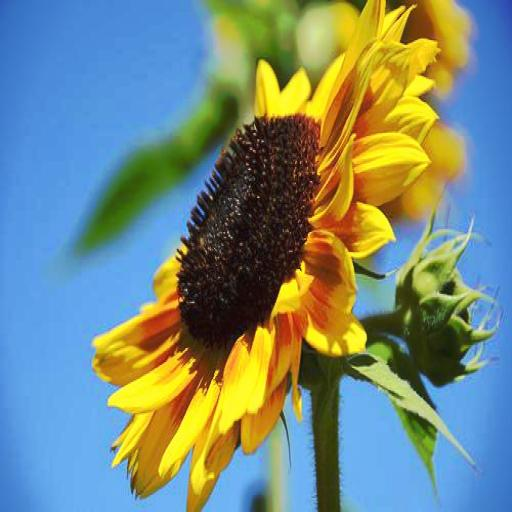sunflower: (91, 3, 444, 512)
